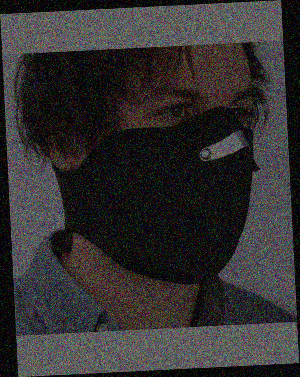with_mask: (81, 79, 260, 288)
